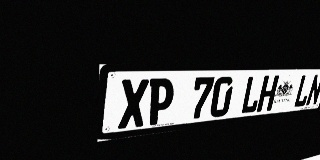0: (209, 76, 235, 118)
7: (188, 77, 215, 121)
H: (256, 75, 279, 112)
L: (240, 76, 264, 114), (293, 74, 314, 108)
N: (305, 74, 320, 106)
P: (146, 78, 175, 126)
X: (118, 79, 149, 129)
